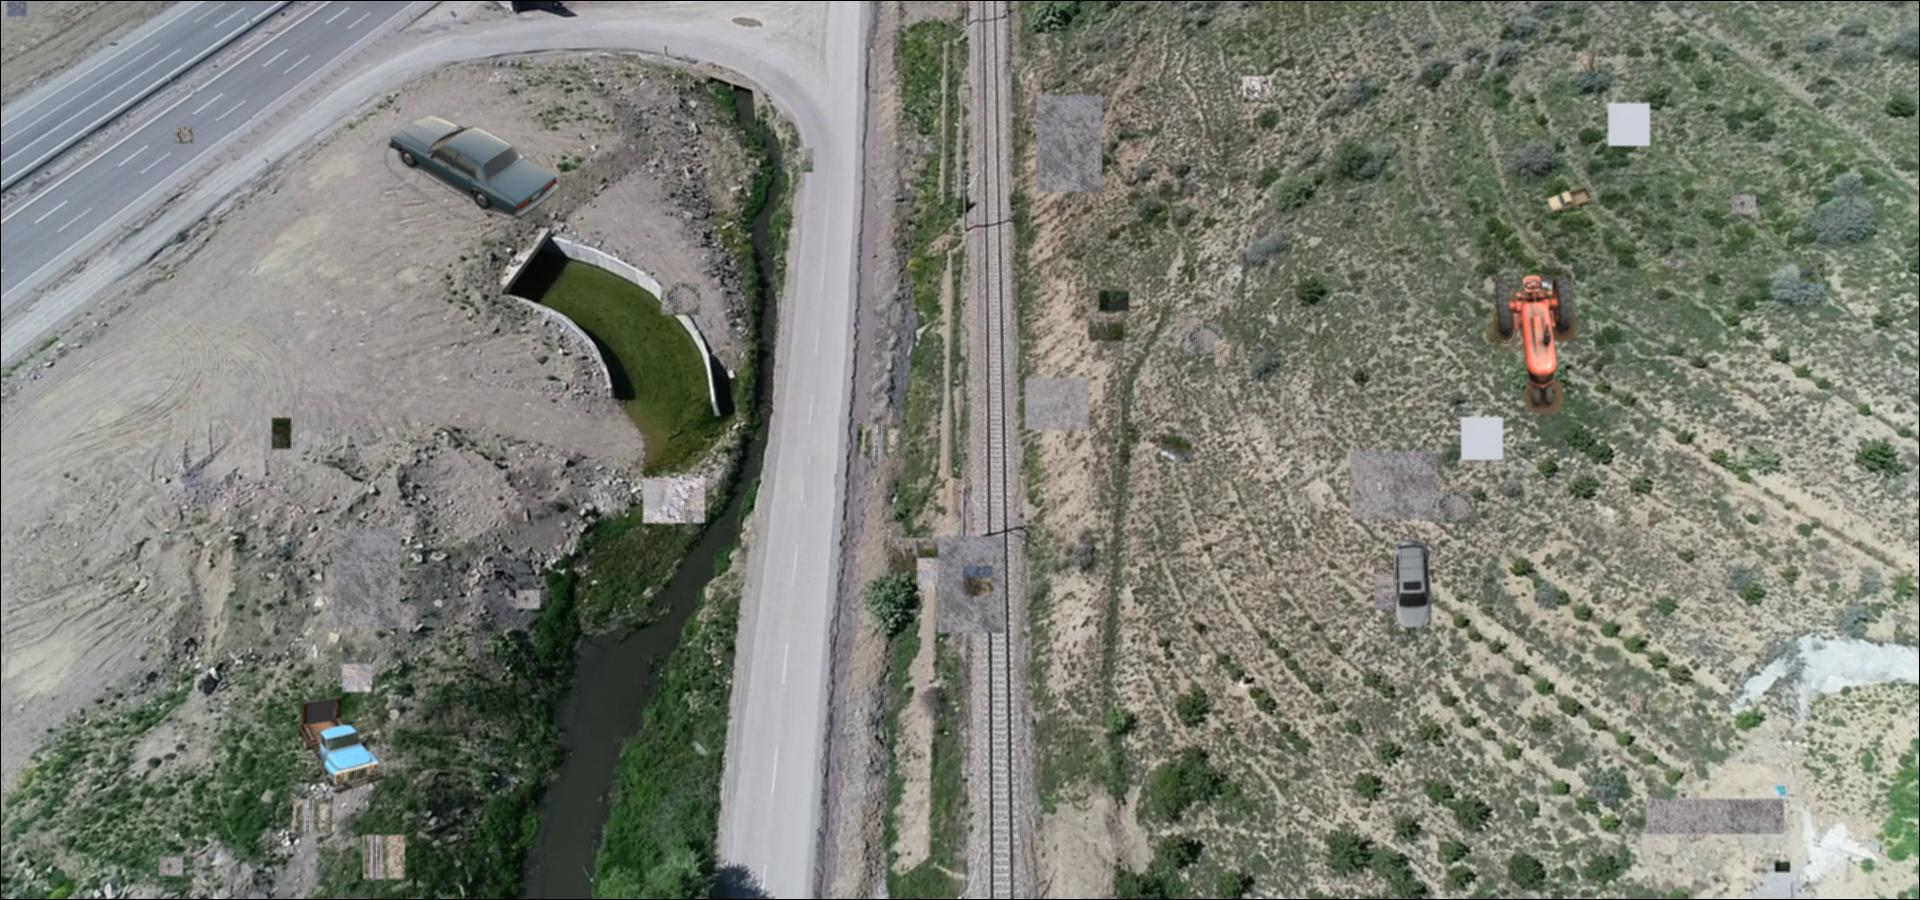arac: (381, 113, 560, 220), (1485, 273, 1575, 414), (298, 694, 384, 793), (1390, 539, 1433, 627), (1547, 186, 1592, 216)
